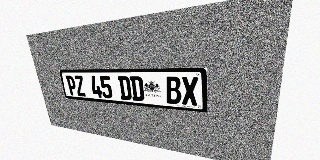4: (89, 76, 103, 98)
5: (99, 76, 113, 99)
B: (165, 76, 181, 104)
D: (130, 76, 145, 101), (117, 76, 132, 100)
P: (65, 75, 78, 96)
X: (181, 77, 198, 106)
Z: (74, 76, 86, 96)
